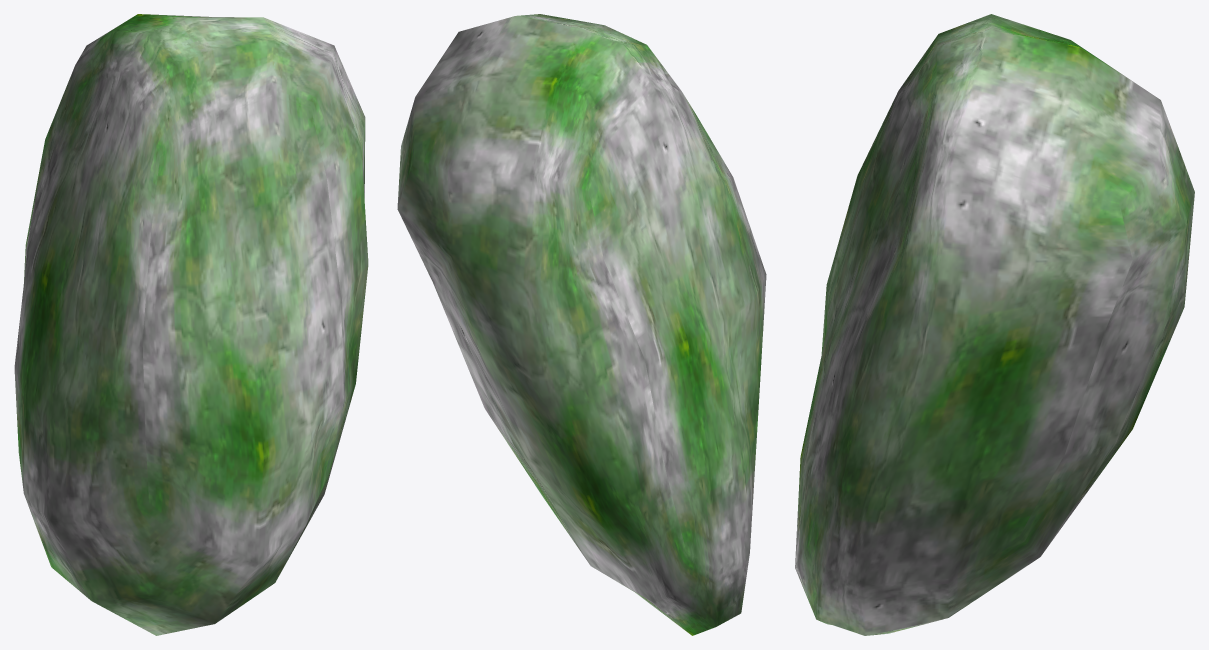
File: INST_HTOWN_ROCKE.fbx
3 views of the same model, side by side, from view 1: azimuth 30°, elevation 25°; view 2: azimuth 150°, elevation 25°; view 3: azimuth 270°, elevation 25° (orthographic). The views are drawn at different scales.
Parts seen in each view (by area): view 1: INST_HTOWN_ROCKE; view 2: INST_HTOWN_ROCKE; view 3: INST_HTOWN_ROCKE.
Part boxes in pixels (left/top/right/bottom): INST_HTOWN_ROCKE: left=14, top=14, right=368, bottom=635; INST_HTOWN_ROCKE: left=397, top=14, right=766, bottom=635; INST_HTOWN_ROCKE: left=795, top=14, right=1194, bottom=635.
Bounding box in the file's own units: 15130 × 26983 × 15130.
1 material, 1 textured.
